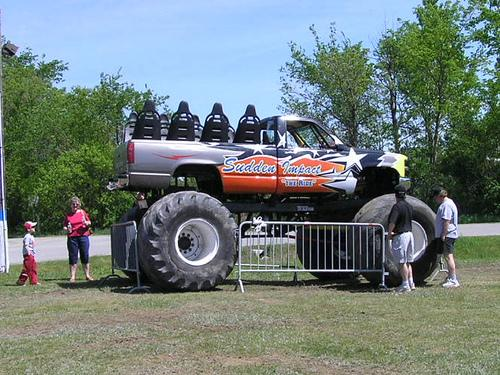truck: (105, 99, 449, 294)
